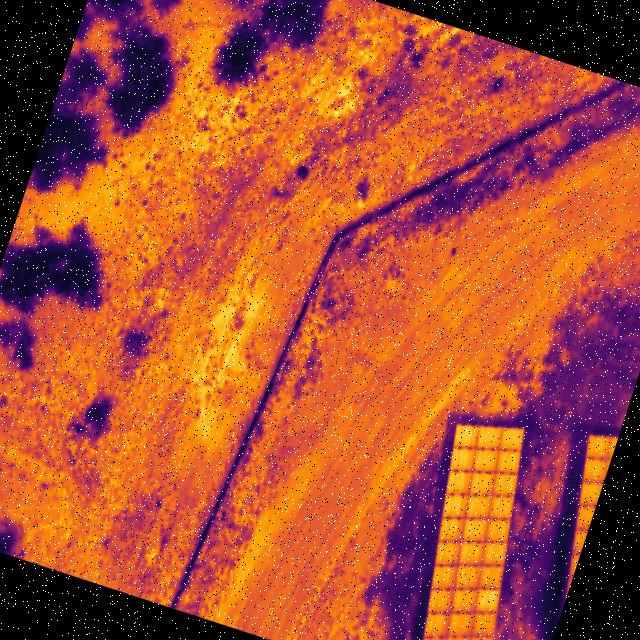Hotspot: (475, 588, 499, 614)
